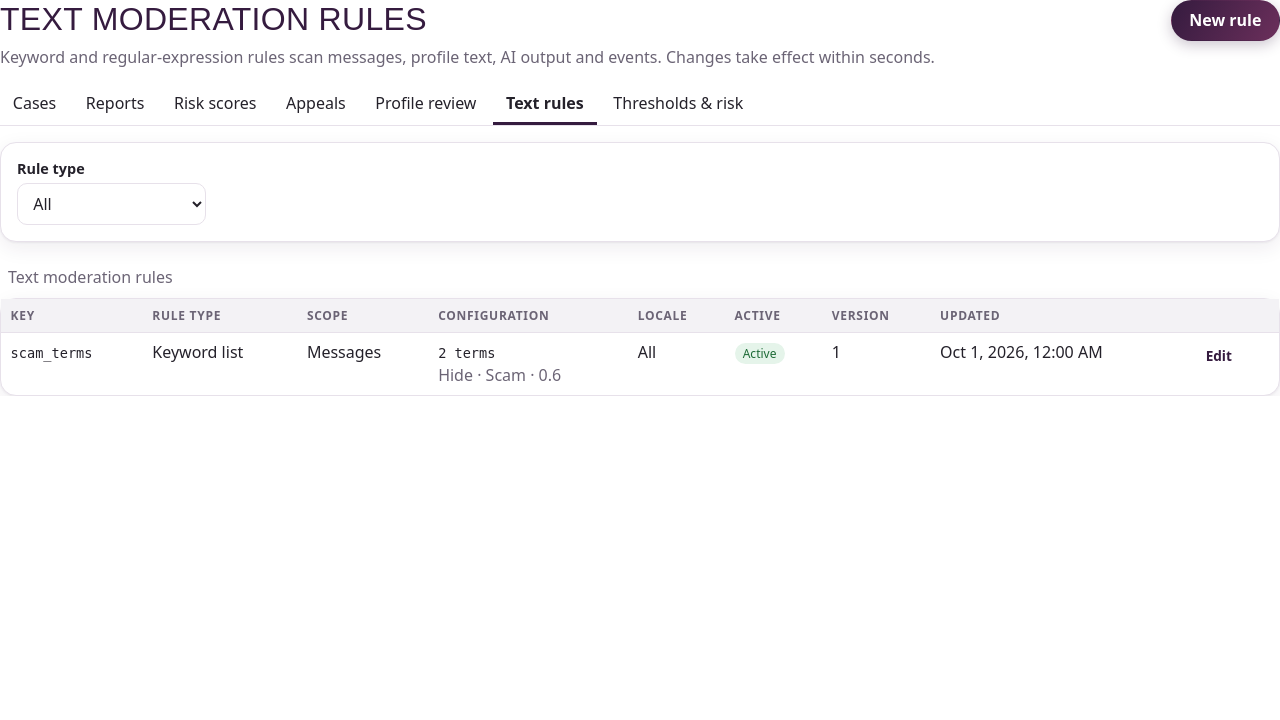
Test: RulesPage › rejects an invalid regular expression and warns about non-evaluated rule types
Click the button "Edit": click(1219, 356) x1=1195 y1=341 x2=1242 y2=371
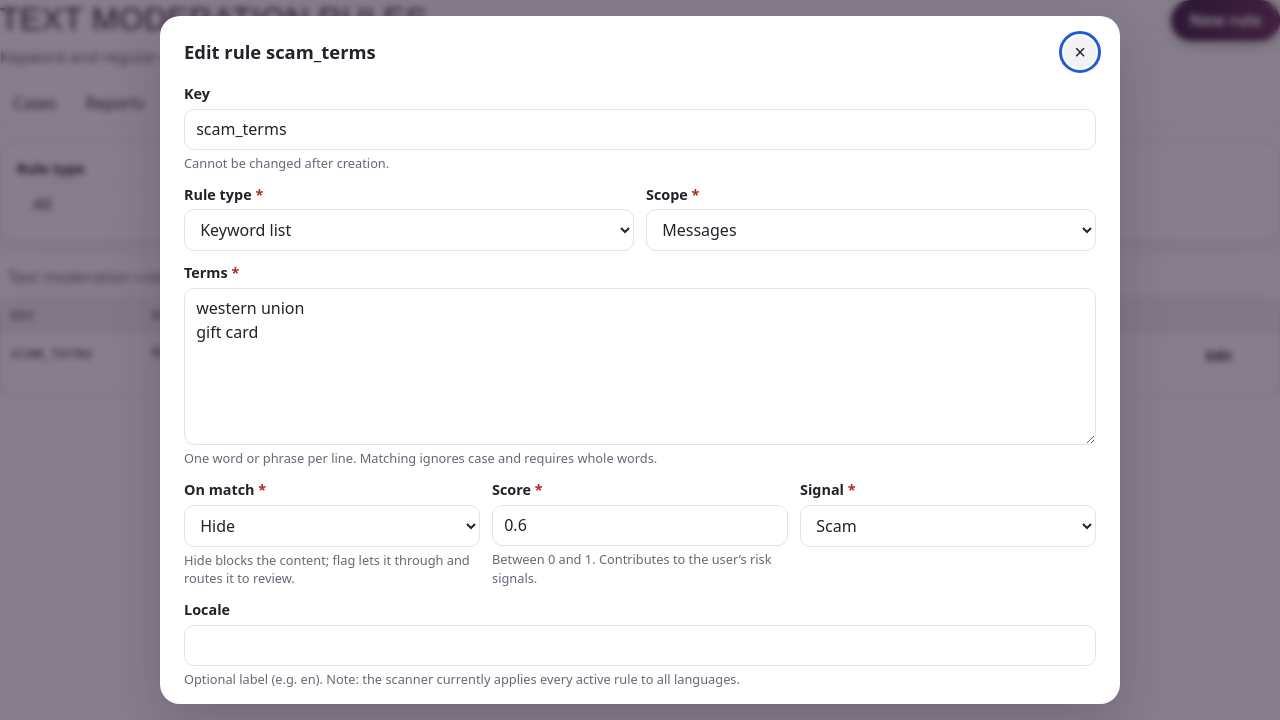
Select "Regular expression" in the dropdown labelled "Rule type": (409, 230) x1=184 y1=210 x2=634 y2=252
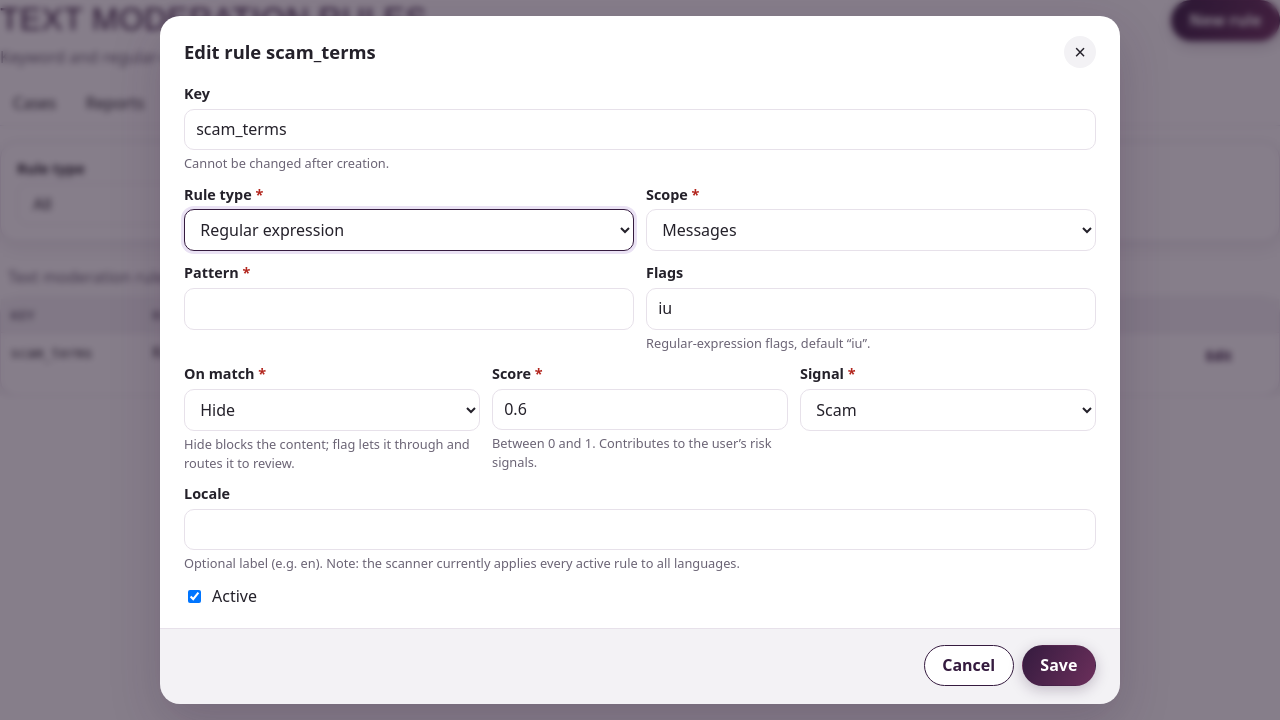
In the field labelled "Pattern": (409, 309) x1=184 y1=288 x2=634 y2=330, type "(unclosed"
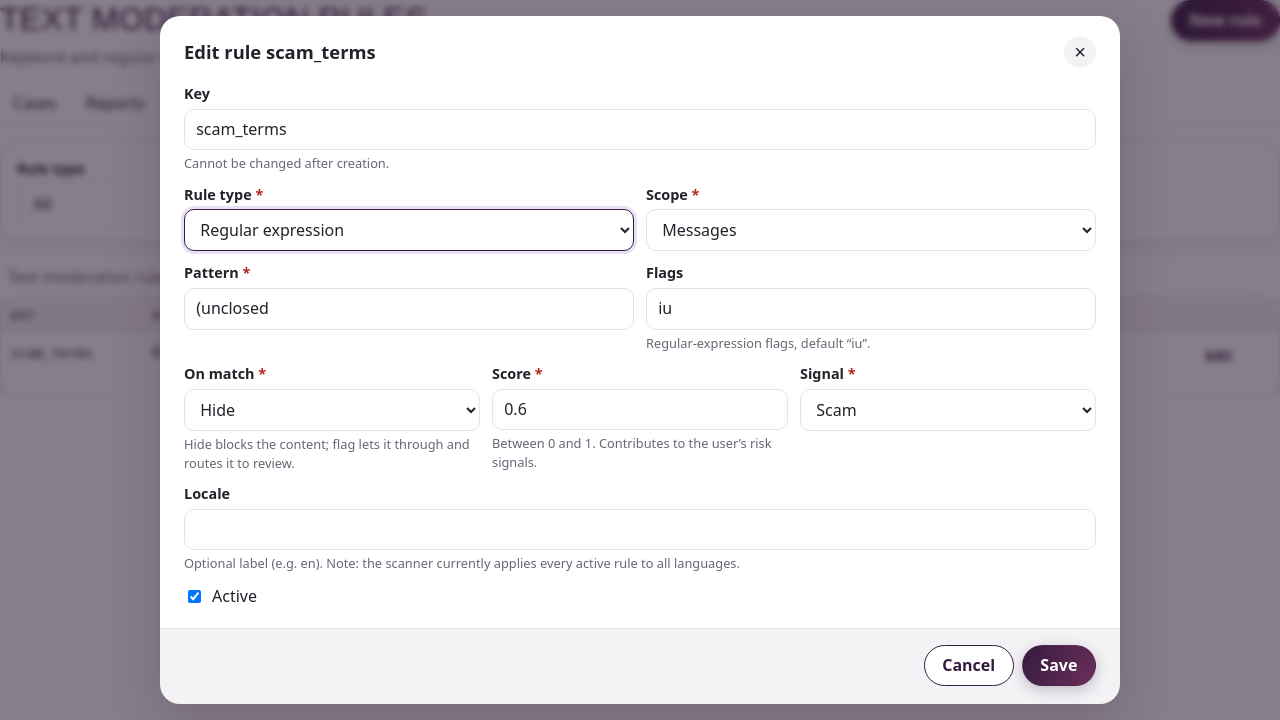
Click the button "Save": click(1059, 666) x1=1022 y1=645 x2=1096 y2=686
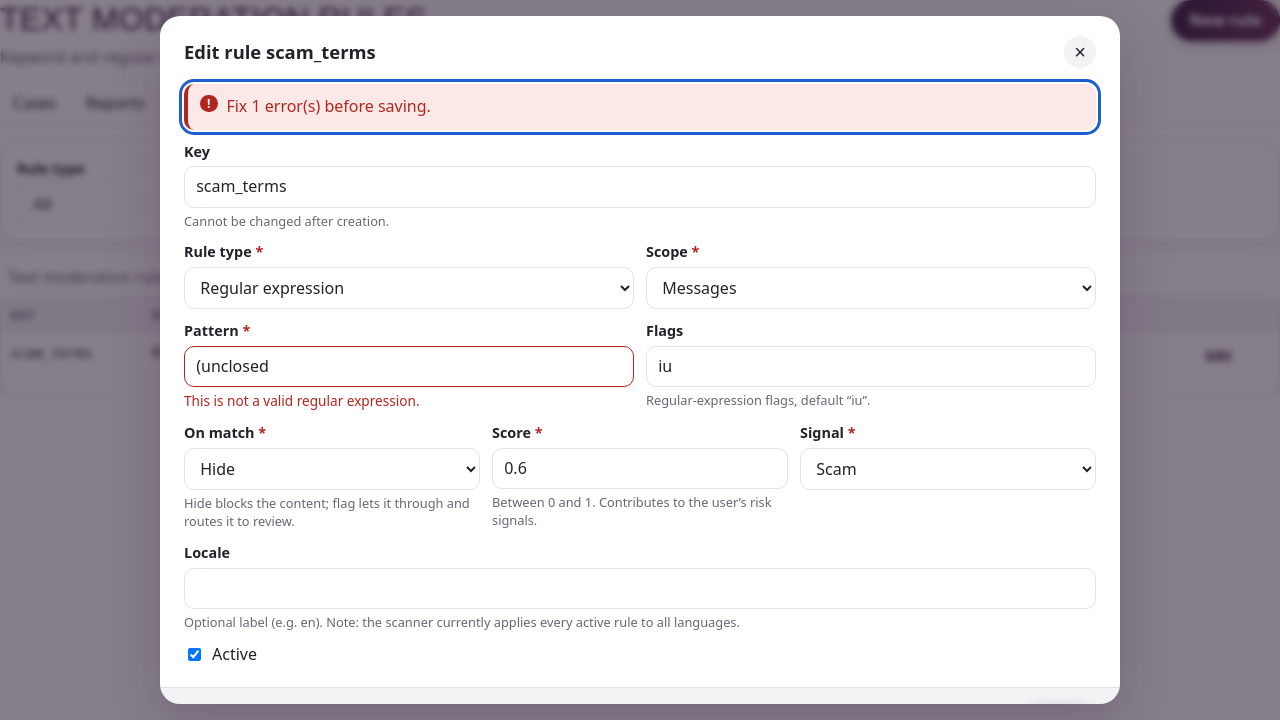
Now the text "This is not a valid regular expression." is shown, box x1=184 y1=391 x2=420 y2=410
Select "Velocity" in the dropdown labelled "Rule type": (409, 288) x1=184 y1=267 x2=634 y2=309
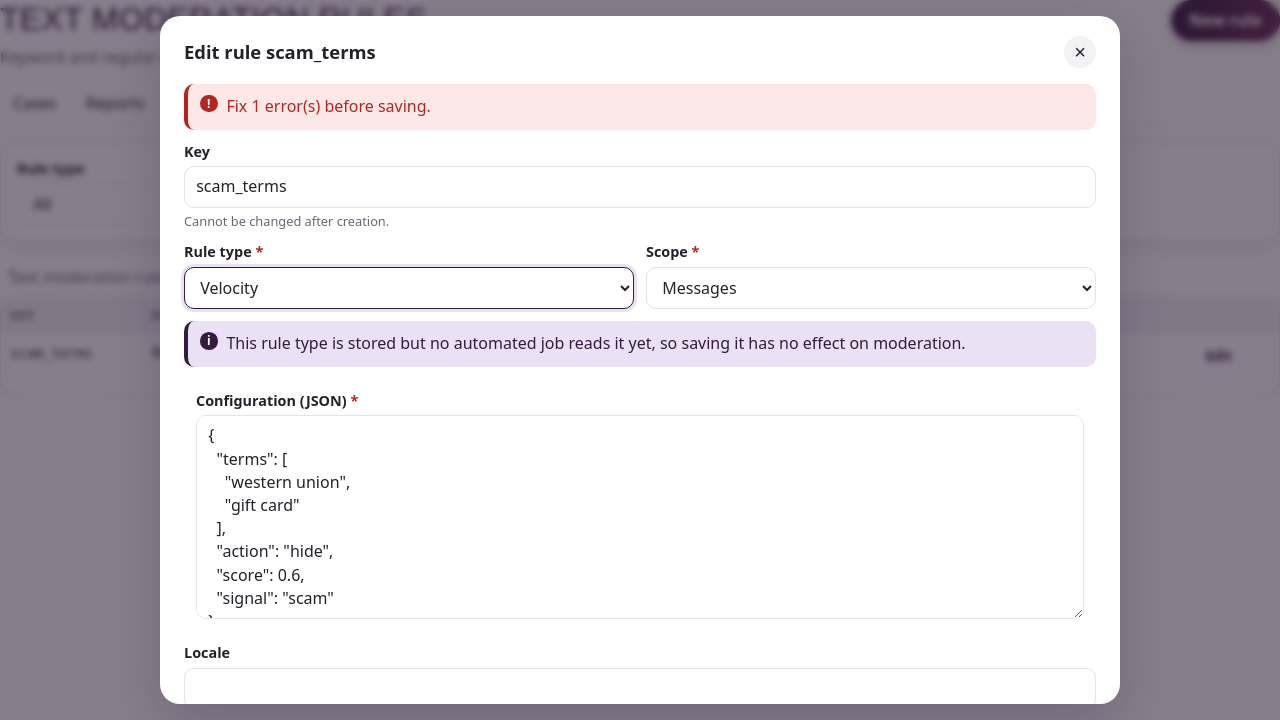
Now the text "This rule type is stored but no automated job reads it yet, so saving it has no effect on moderation." is shown, box x1=226 y1=332 x2=966 y2=354
